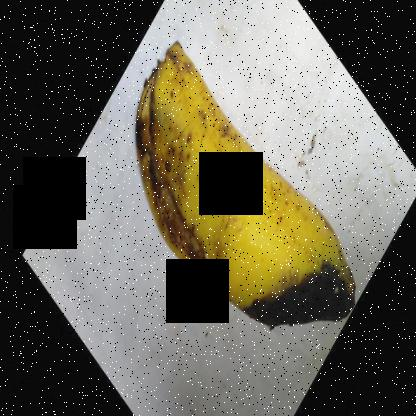rotten: (130, 29, 224, 283), (245, 250, 378, 336)
